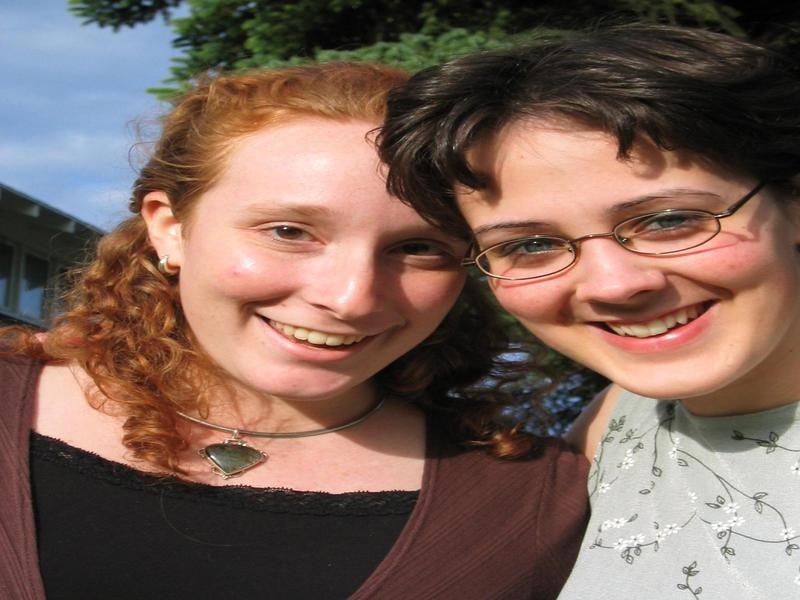person: (18, 56, 587, 600), (389, 34, 800, 599)
